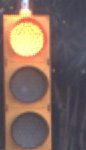Red: (3, 1, 64, 150)
